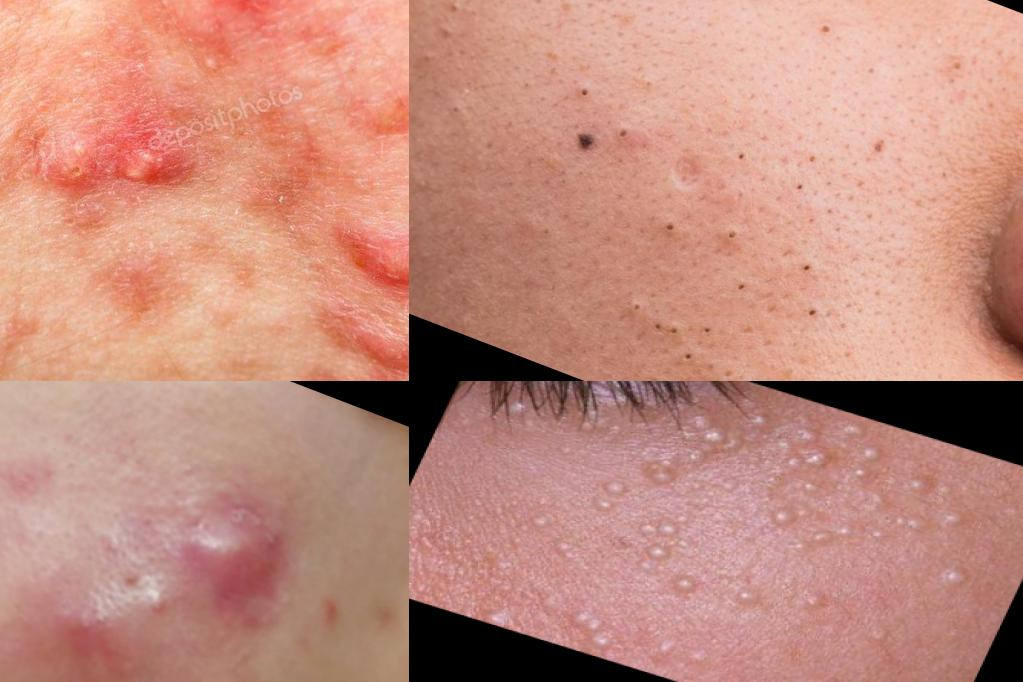acne_scars: (667, 138, 714, 197)
blackhead: (607, 283, 730, 381), (410, 1, 474, 79), (928, 47, 986, 106), (431, 87, 484, 148), (529, 210, 582, 266), (792, 296, 850, 344), (606, 112, 659, 164), (559, 66, 610, 117), (717, 136, 767, 182), (717, 215, 761, 260), (648, 204, 689, 251), (792, 250, 838, 290), (727, 274, 766, 309)
cystic: (148, 485, 305, 629), (358, 236, 410, 327)
milium: (630, 382, 771, 500), (774, 410, 893, 494), (552, 596, 639, 659), (575, 461, 650, 526), (530, 519, 608, 578), (623, 505, 691, 570), (631, 445, 703, 502), (863, 499, 932, 556), (748, 486, 821, 538), (802, 511, 864, 562), (784, 580, 844, 624), (660, 566, 717, 607), (643, 628, 697, 670), (723, 582, 777, 622), (471, 595, 529, 632), (897, 462, 947, 504), (785, 471, 839, 509), (930, 557, 975, 596), (929, 502, 976, 539), (492, 391, 537, 428), (754, 460, 797, 496), (524, 509, 564, 541)
purulent: (124, 579, 218, 643)
sebo-crystan-conglo: (13, 79, 273, 270), (20, 580, 174, 682), (177, 1, 367, 50)
